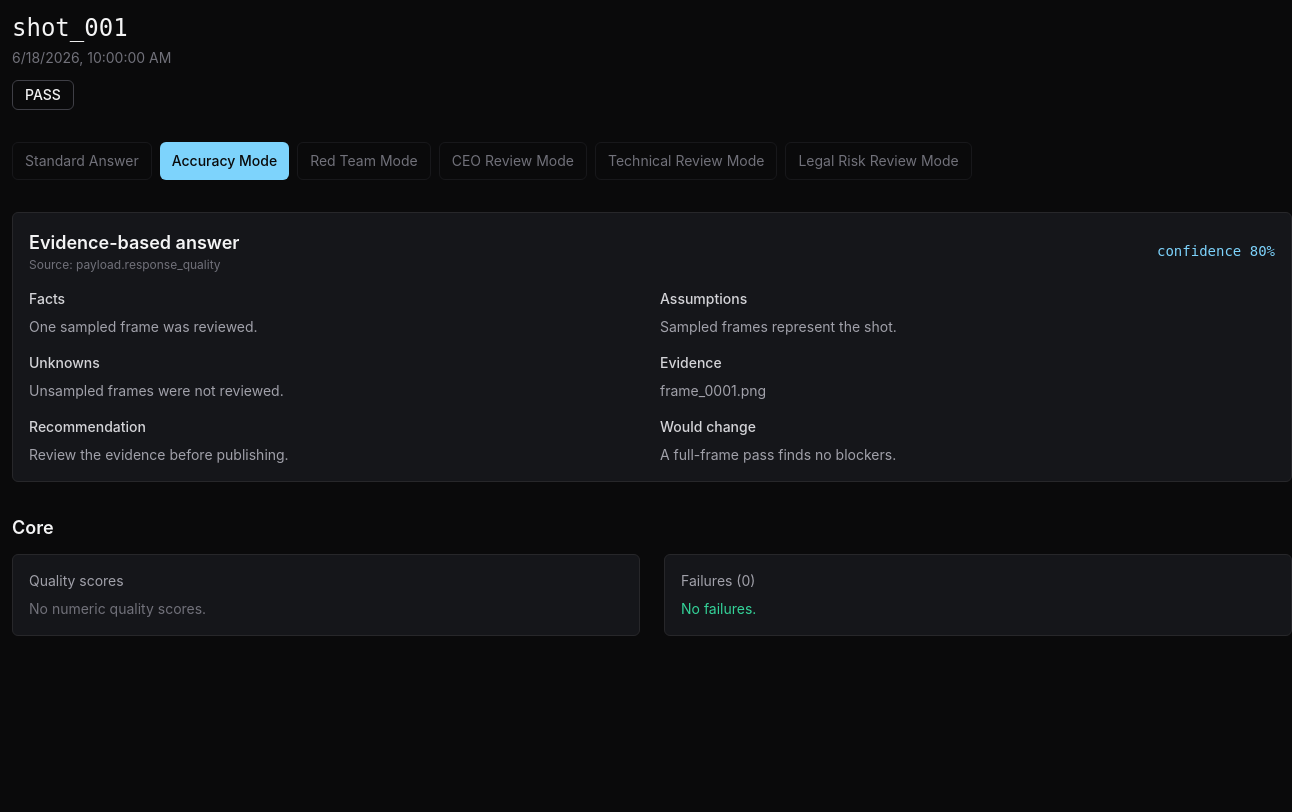
Test: VerdictDetail › does not relabel an evidence report as a red-team report
Step 1. Click the button "Red Team Mode" → point(364, 161), box [297,142,431,180]
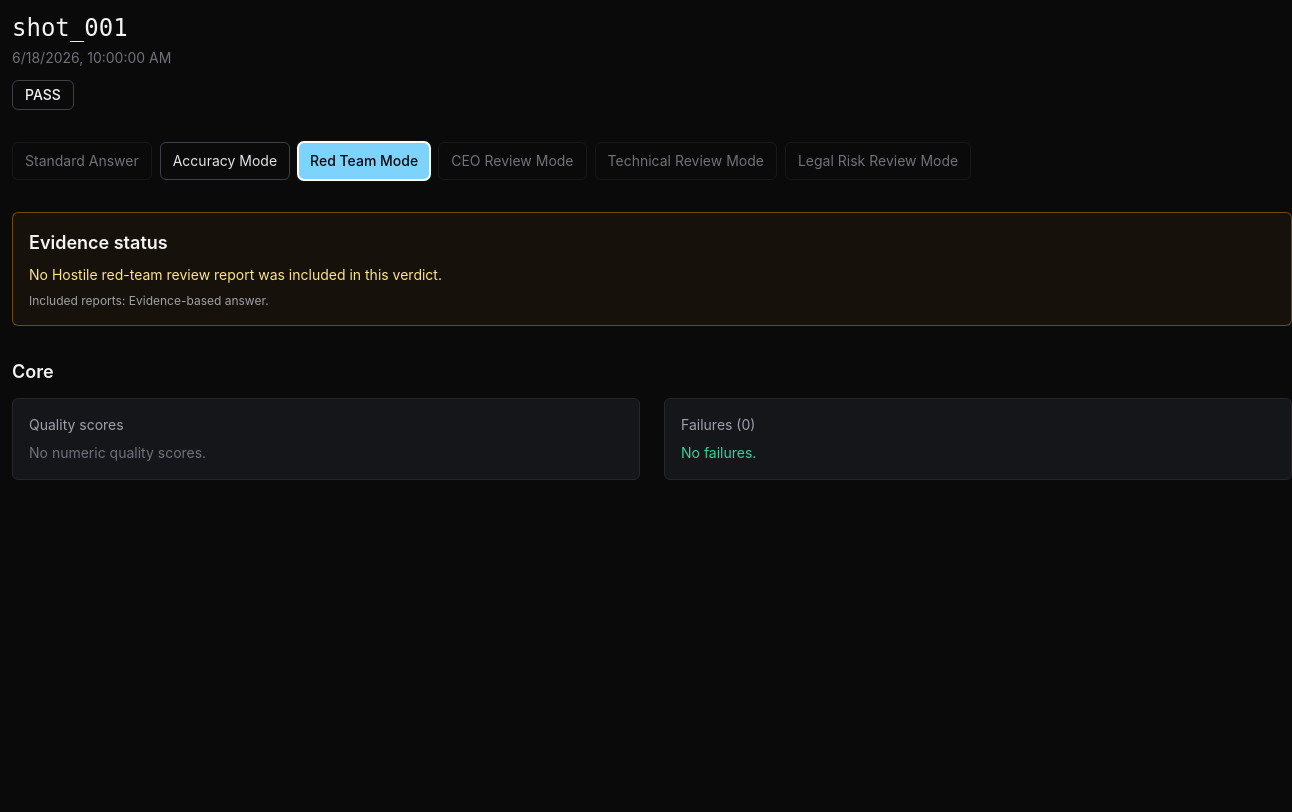
Result: the text "No Hostile red-team review report was included in this verdict." is shown at [29,266,442,283]
Result: the text "Included reports: Evidence-based answer." is shown at [29,293,269,308]
